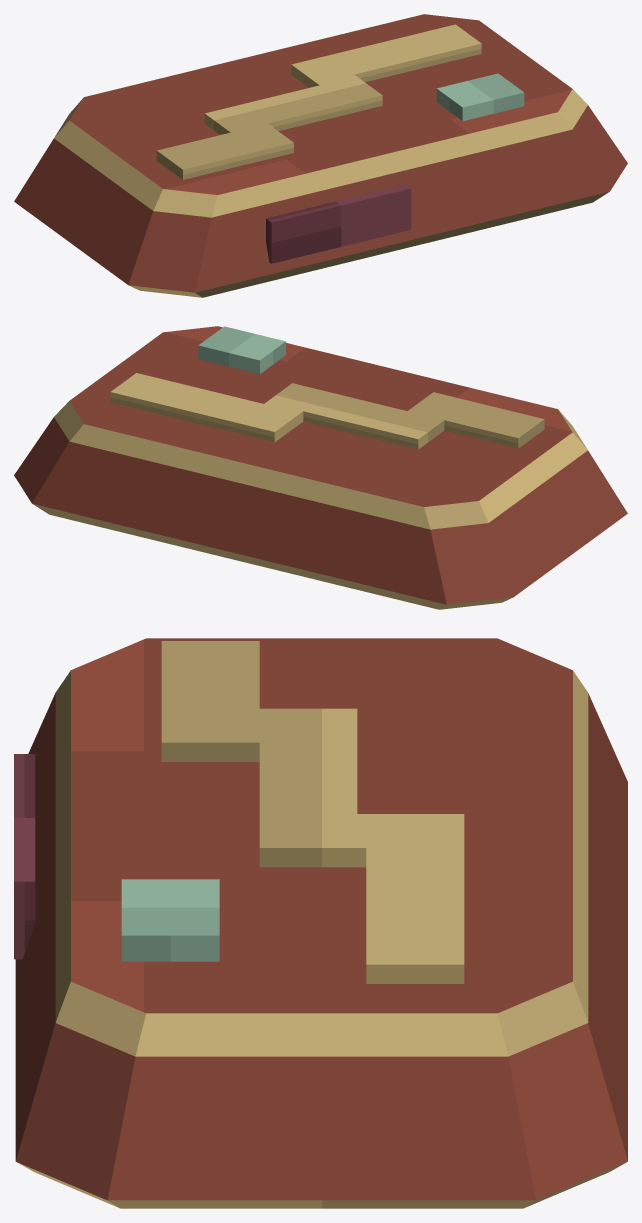
The model's file is qi_chixia_ingot.obj.
3 renders of one model, top to bottom at view 1: azimuth 30°, elevation 25°; view 2: azimuth 150°, elevation 25°; view 3: azimuth 270°, elevation 25°, orthographic. The views are drawn at different scales.
Visible parts, largest first — view 1: ingot_body, ingot_dawn, ingot_mineral, ingot_heart; view 2: ingot_body, ingot_dawn, ingot_heart; view 3: ingot_body, ingot_dawn, ingot_heart, ingot_mineral.
Boxes of the visible parts, x1=… form: ingot_body: x1=14, y1=14, x2=627, y2=297; ingot_dawn: x1=156, y1=24, x2=481, y2=179; ingot_mineral: x1=266, y1=184, x2=411, y2=263; ingot_heart: x1=436, y1=73, x2=524, y2=120; ingot_body: x1=14, y1=326, x2=627, y2=609; ingot_dawn: x1=110, y1=373, x2=544, y2=449; ingot_heart: x1=198, y1=326, x2=285, y2=373; ingot_body: x1=15, y1=638, x2=627, y2=1208; ingot_dawn: x1=161, y1=641, x2=464, y2=983; ingot_heart: x1=121, y1=879, x2=219, y2=961; ingot_mineral: x1=14, y1=754, x2=35, y2=959.
Size of the model in its own units: 0.38 by 0.0756 by 0.2156.
